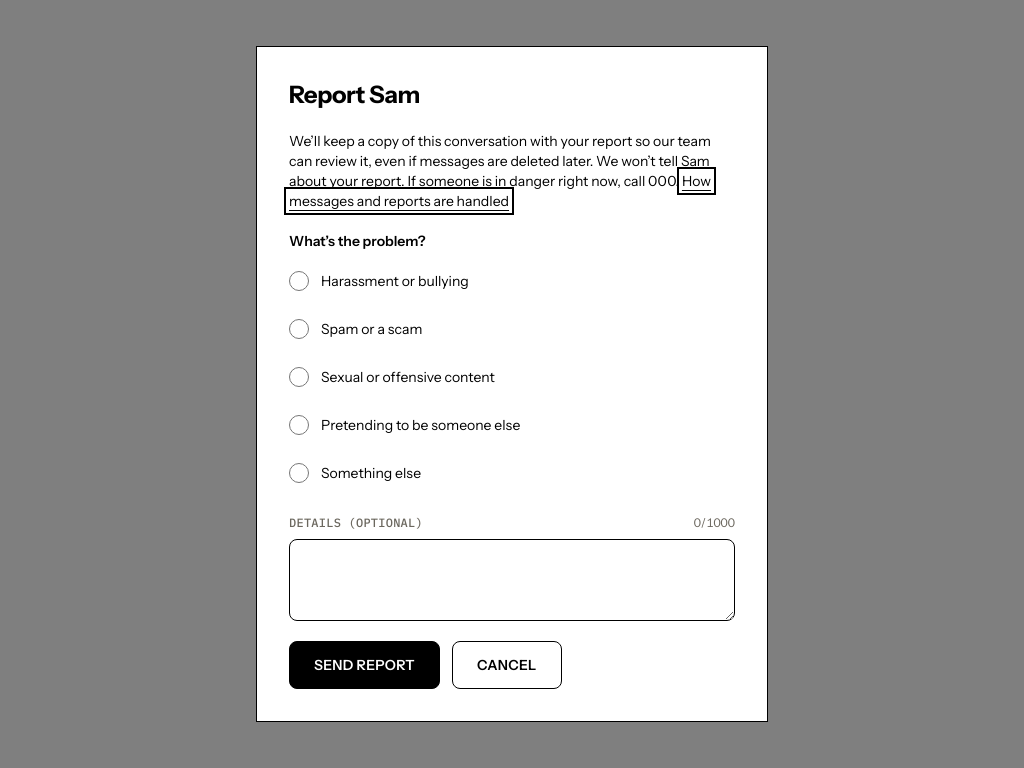
Test: the messaging recovery is locked to whoever wrote the draft, not to the live session › ReportDialog: sends with a token getter bound to the writer, so a change after its check is refused
Click the radio button labelled "Harassment or bullying": coordinates (299, 281) top-left (289, 271), bottom-right (309, 291)
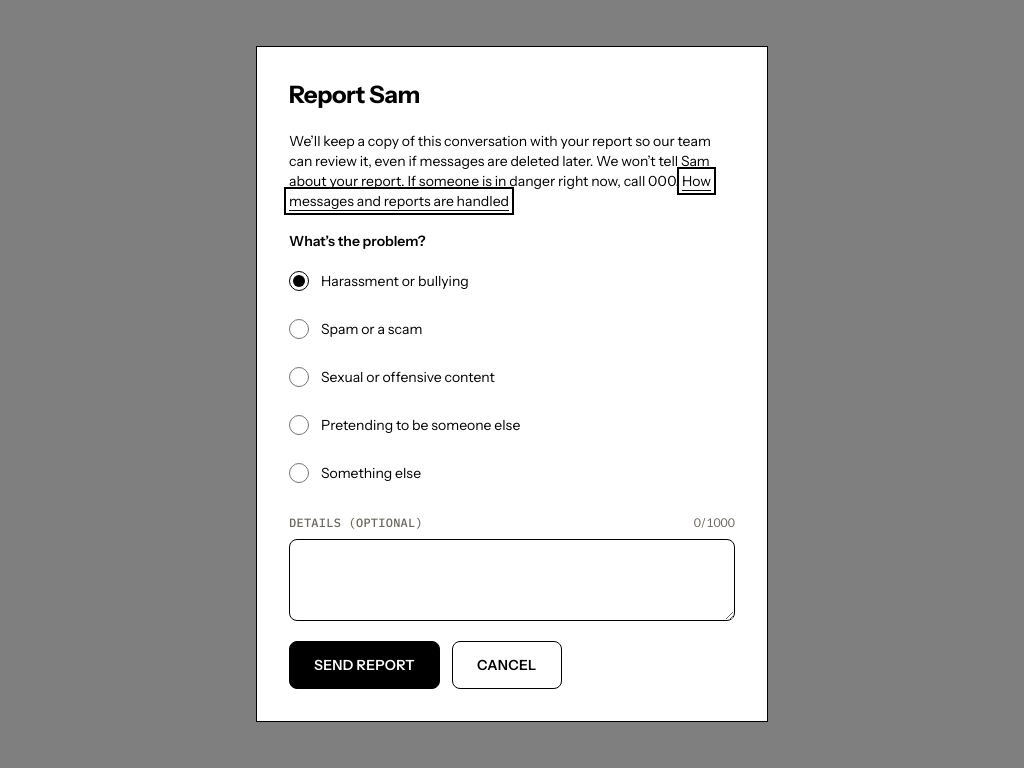
Click the button "Send report": coordinates (364, 665) top-left (289, 641), bottom-right (440, 689)
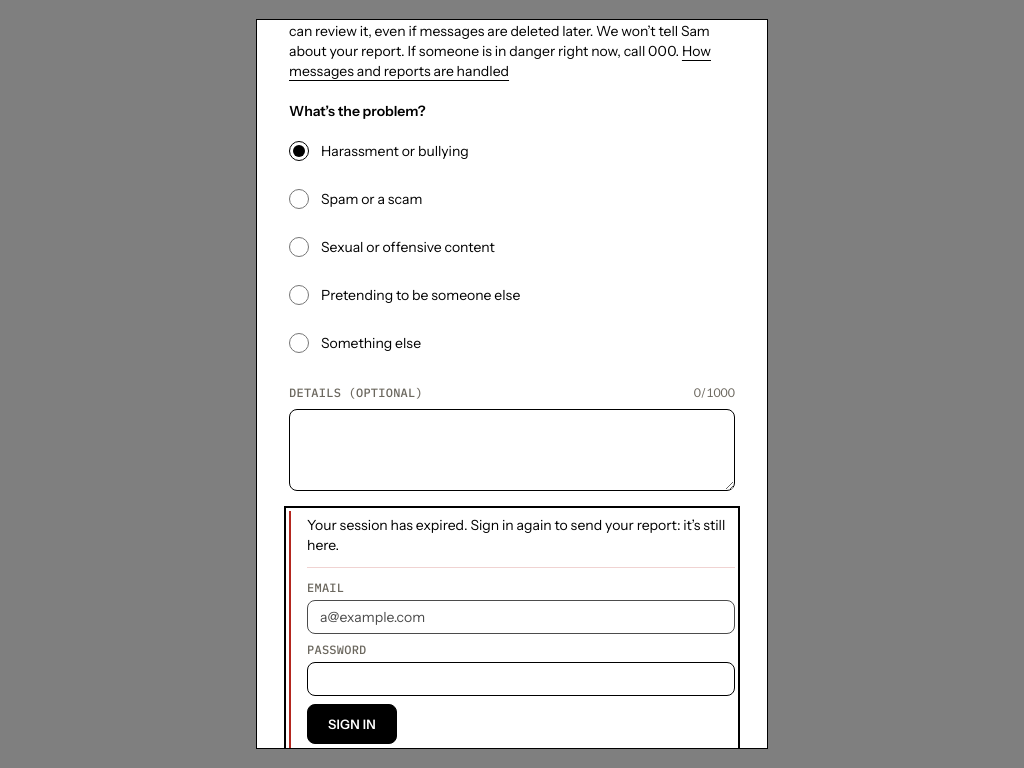
Now the text "Your session has expired" is shown, box top-left (307, 516), bottom-right (637, 534)
Now the field labelled "Email" holds "a@example.com", box top-left (307, 600), bottom-right (735, 634)
